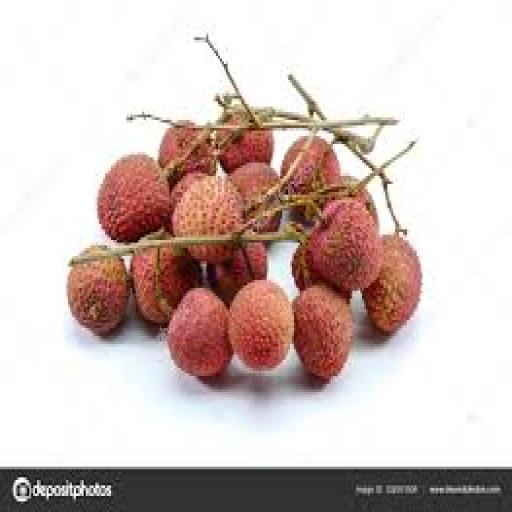lychee: (310, 198, 383, 290), (98, 155, 169, 242), (228, 280, 293, 370), (363, 235, 422, 333), (131, 246, 202, 325), (293, 286, 352, 381), (168, 288, 231, 375), (67, 256, 128, 335), (174, 176, 243, 237), (158, 120, 216, 183), (207, 243, 266, 303), (281, 136, 340, 194), (217, 131, 274, 173), (168, 174, 206, 231), (230, 163, 278, 207), (293, 243, 325, 290), (293, 243, 323, 290), (351, 187, 379, 226)
